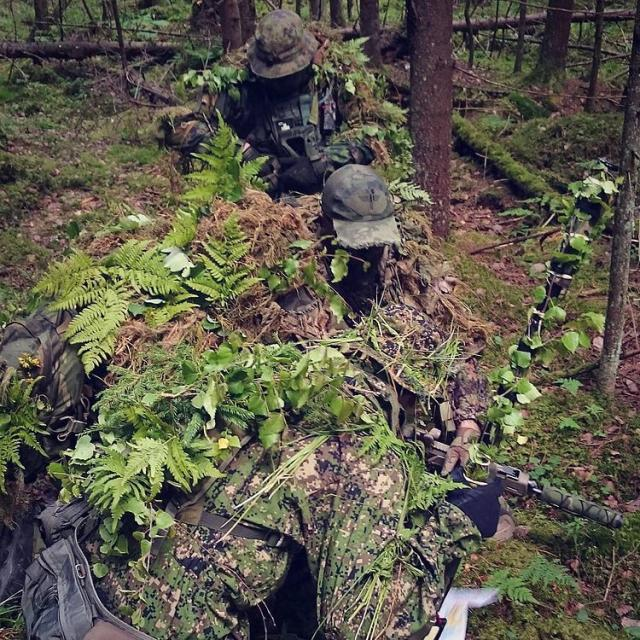camouflaged: (168, 320, 438, 576)
human: (163, 9, 380, 198), (317, 165, 401, 314)
